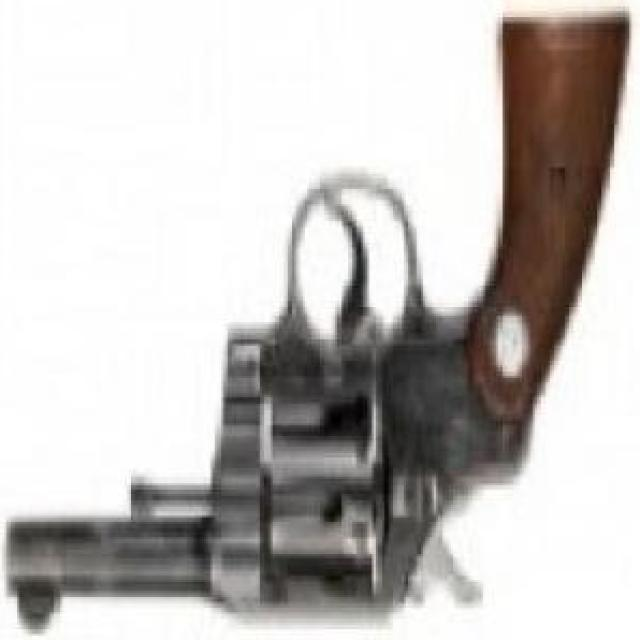pistol: (11, 16, 623, 634)
